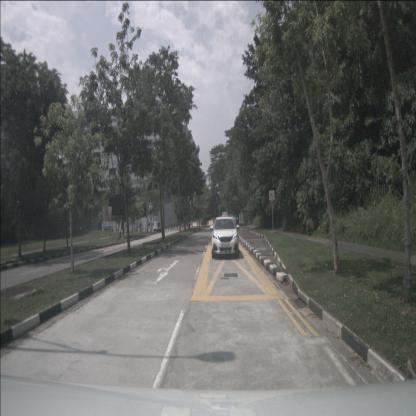barrier: (192, 222, 197, 227), (209, 220, 213, 225), (213, 220, 217, 224), (197, 222, 201, 226), (189, 222, 192, 227), (207, 221, 210, 226)
